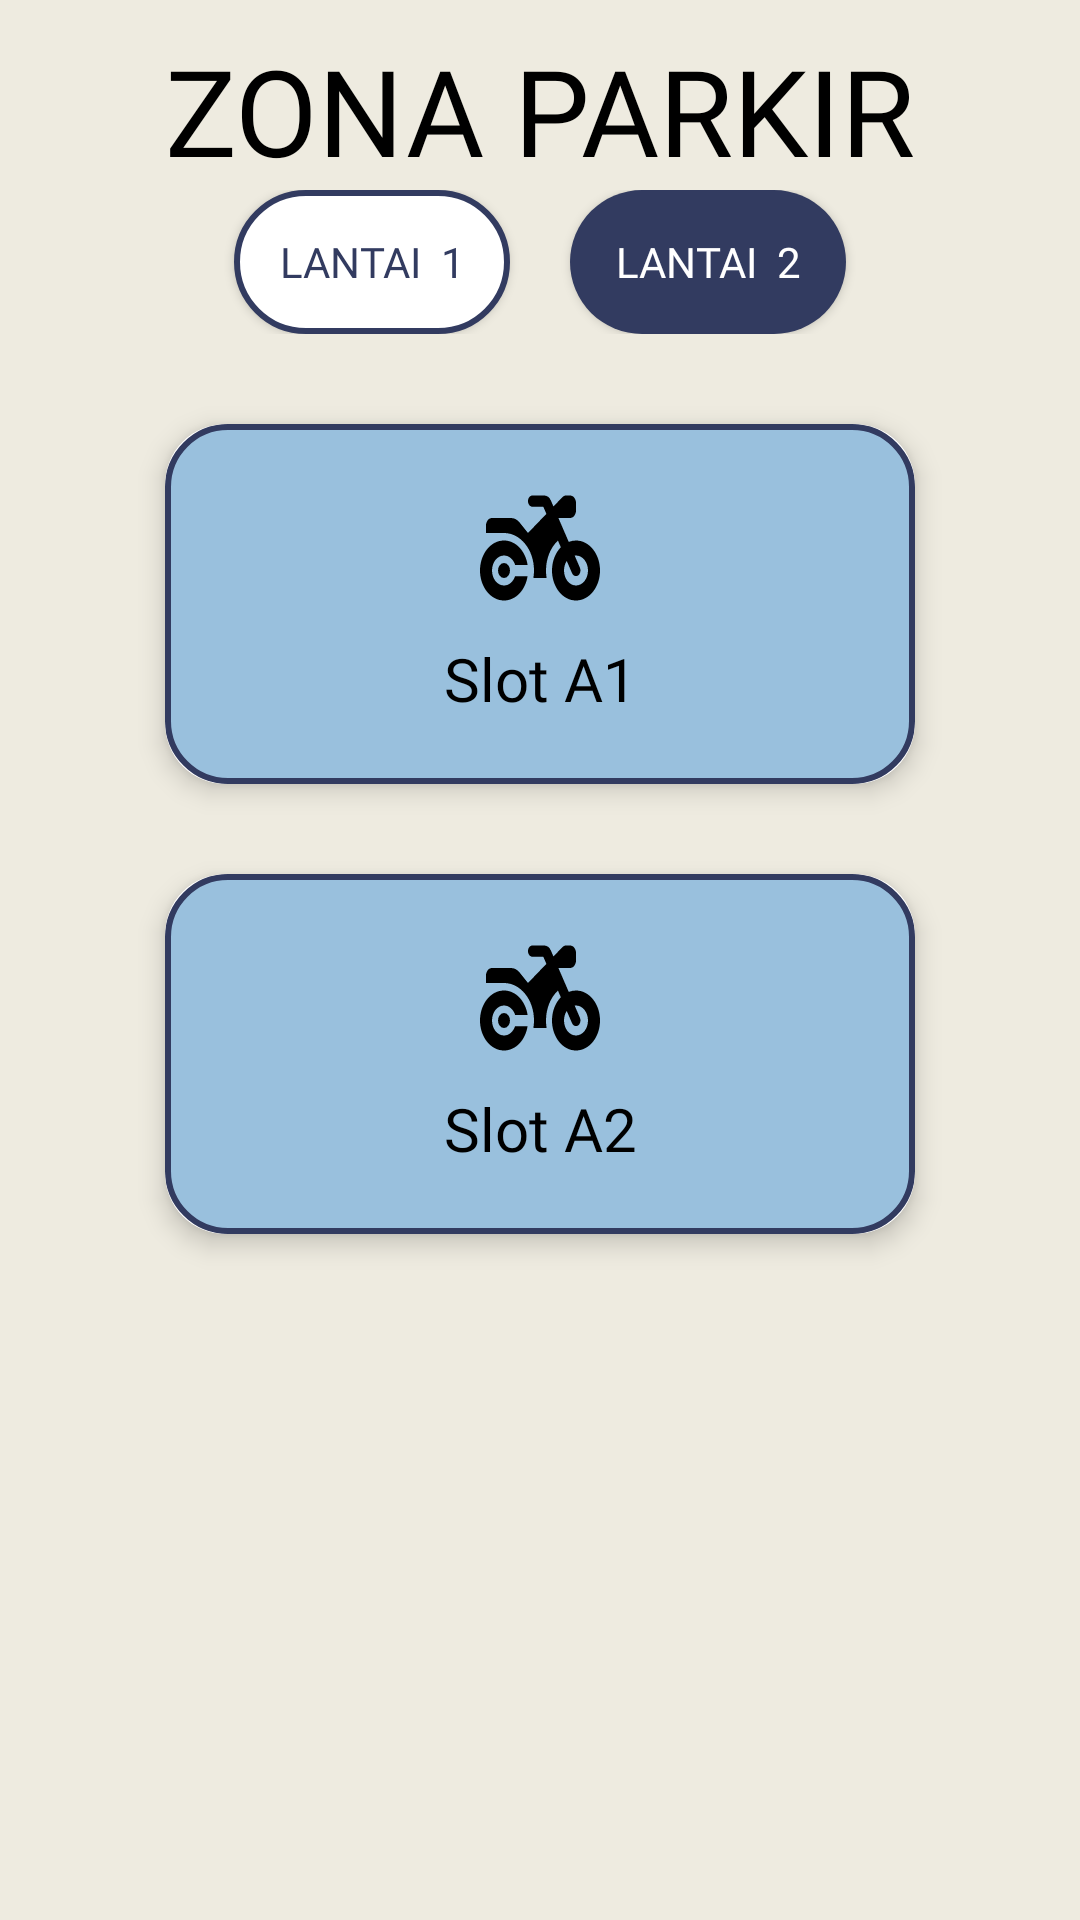

Icon bounding boxes for this 1080x1920 phone screenshot, format (x1, y1, x2, y2):
motorcycle: (480, 495, 600, 601), (480, 945, 600, 1051)
